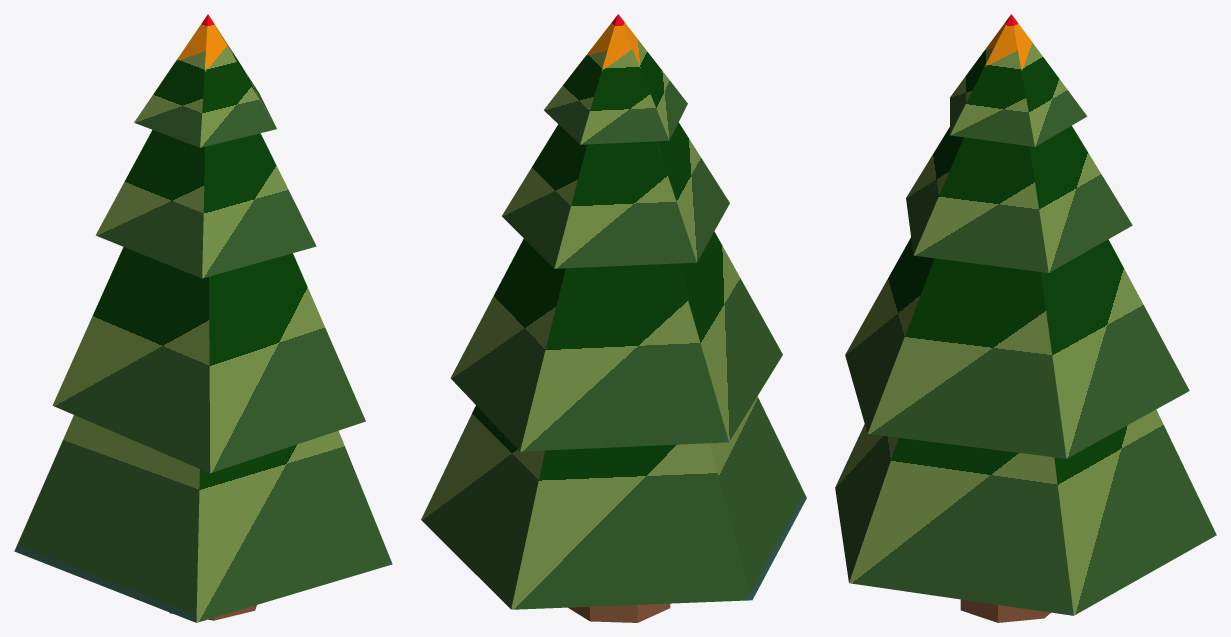
File: Tree2_1.obj
3 views of the same model, side by side, from view 1: azimuth 30°, elevation 25°; view 2: azimuth 150°, elevation 25°; view 3: azimuth 270°, elevation 25° (orthographic).
Visible parts, largest first — view 1: Cone; view 2: Cone; view 3: Cone.
Part boxes in pixels (x1,y1,x2,y2): Cone: (14,14,392,622); Cone: (421,14,806,622); Cone: (835,14,1216,622).
Size of the model in its own units: 23.46 by 39.88 by 23.56.
Materials: 1 (1 with a texture image).
